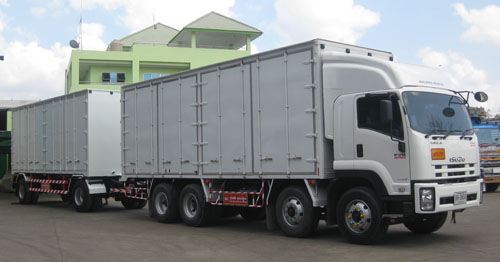truck: (11, 37, 485, 244)
